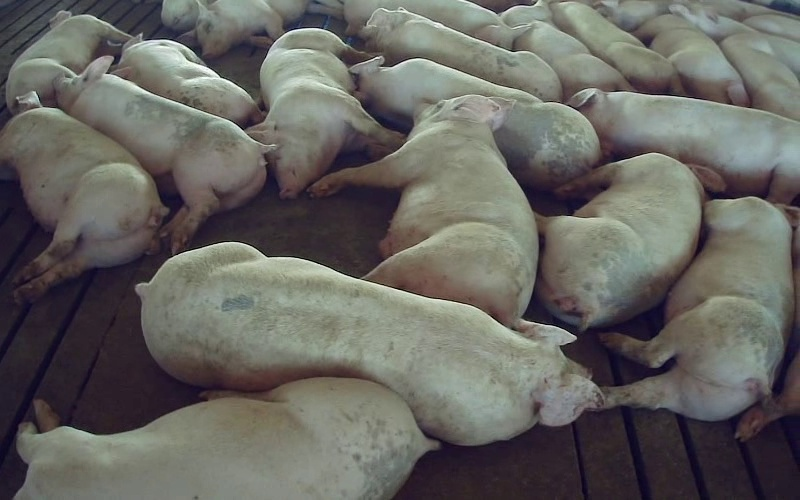pig: (136, 243, 602, 444), (309, 95, 537, 326), (15, 378, 438, 499), (55, 56, 273, 253), (601, 197, 793, 420), (0, 92, 167, 302), (537, 153, 724, 330), (350, 57, 600, 189), (247, 28, 403, 198), (568, 88, 799, 202), (360, 8, 561, 101), (500, 0, 632, 99), (119, 35, 261, 126), (6, 11, 130, 114), (550, 2, 683, 93), (634, 14, 748, 106), (179, 0, 342, 58), (343, 0, 519, 49), (720, 32, 799, 120)
